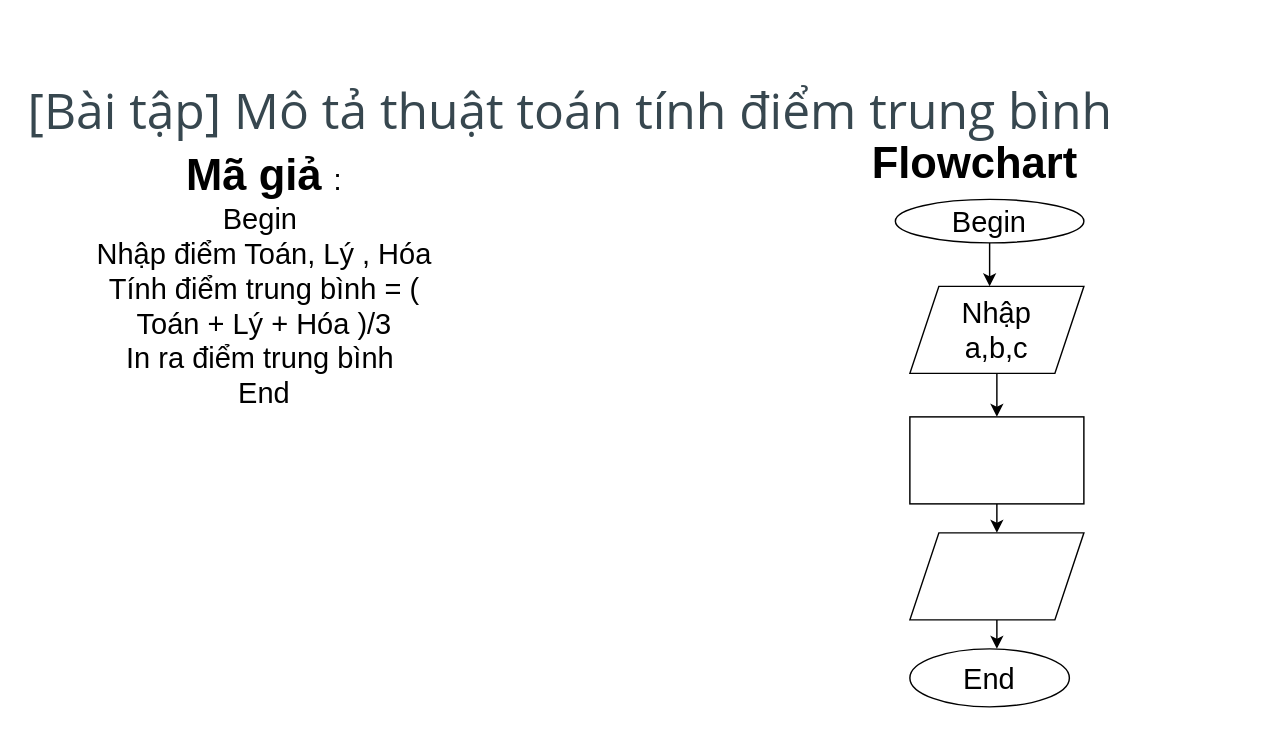
The diagram is 1282 pixels wide and 732 high, and some of its shapes have lost their labels. The centre of each missing label's shape, as x and y in pixels:
Average: [996,575]
Average=(a+b+c)/3: [996,459]
